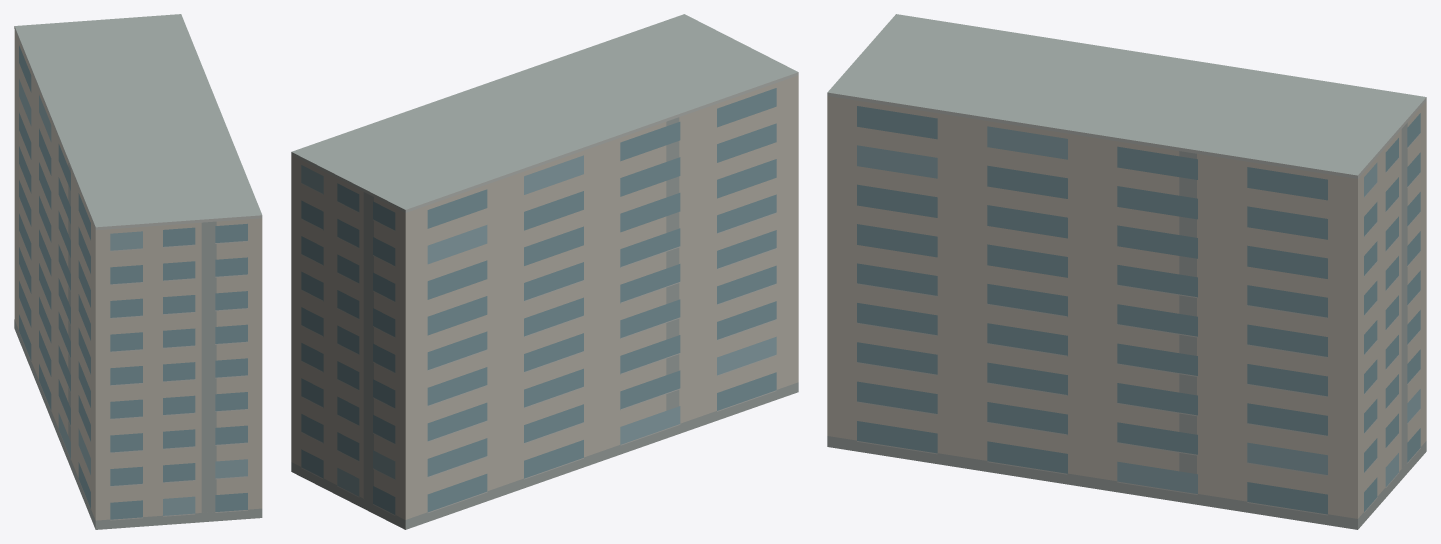
The model's file is residential-7005e73f-3775-4b80-8793-97dddbbcaf54.glb.
3 views of the same model, side by side, from view 1: azimuth 30°, elevation 25°; view 2: azimuth 150°, elevation 25°; view 3: azimuth 270°, elevation 25° (orthographic). The views are drawn at different scales.
Parts seen in each view (by area): view 1: residential-7005e73f-3775-4b80-8793-97dddbbcaf54.tmp; view 2: residential-7005e73f-3775-4b80-8793-97dddbbcaf54.tmp; view 3: residential-7005e73f-3775-4b80-8793-97dddbbcaf54.tmp.
Boxes of the visible parts, x1,y1,x2,y2 form: residential-7005e73f-3775-4b80-8793-97dddbbcaf54.tmp: (14,14,262,529); residential-7005e73f-3775-4b80-8793-97dddbbcaf54.tmp: (291,14,798,529); residential-7005e73f-3775-4b80-8793-97dddbbcaf54.tmp: (827,14,1426,529).
Bounding box in the file's own units: 24.45 × 25 × 38.33.
